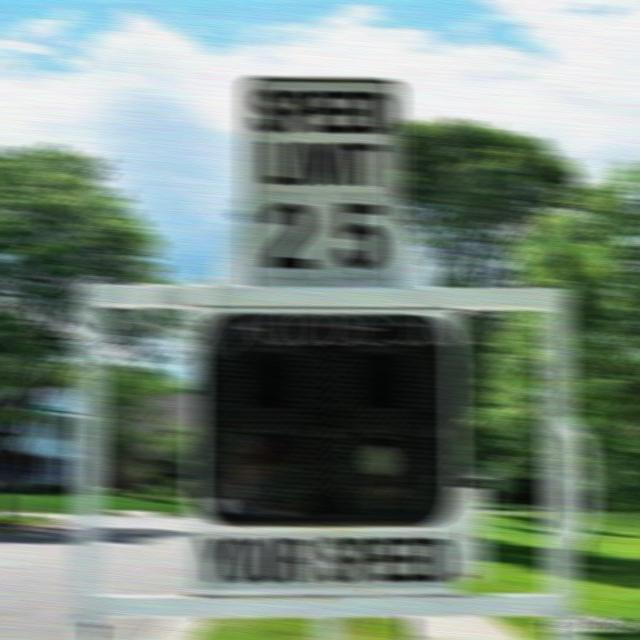speedLimit25: (248, 77, 399, 295)
